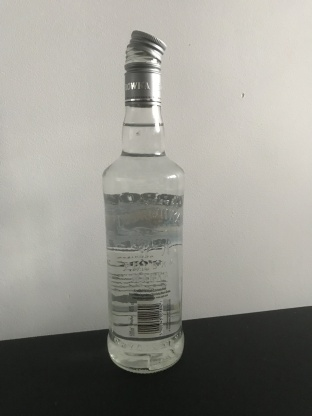nakretka: (123, 27, 167, 107)
